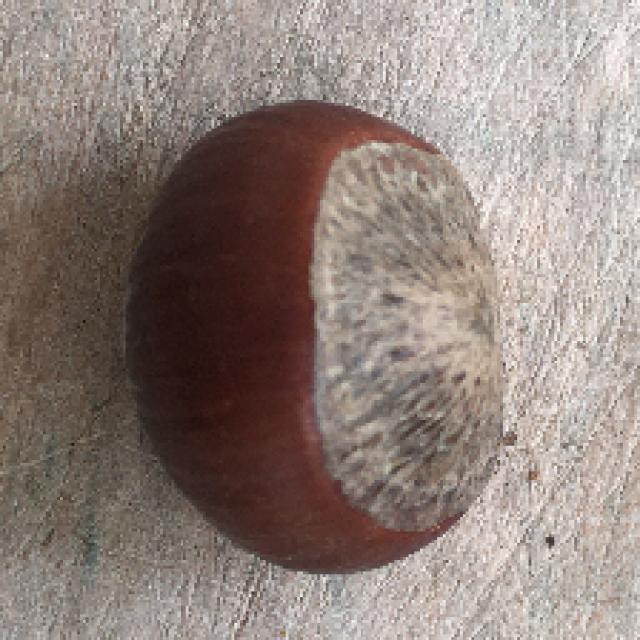damagedHazelnut: (118, 91, 524, 583)
